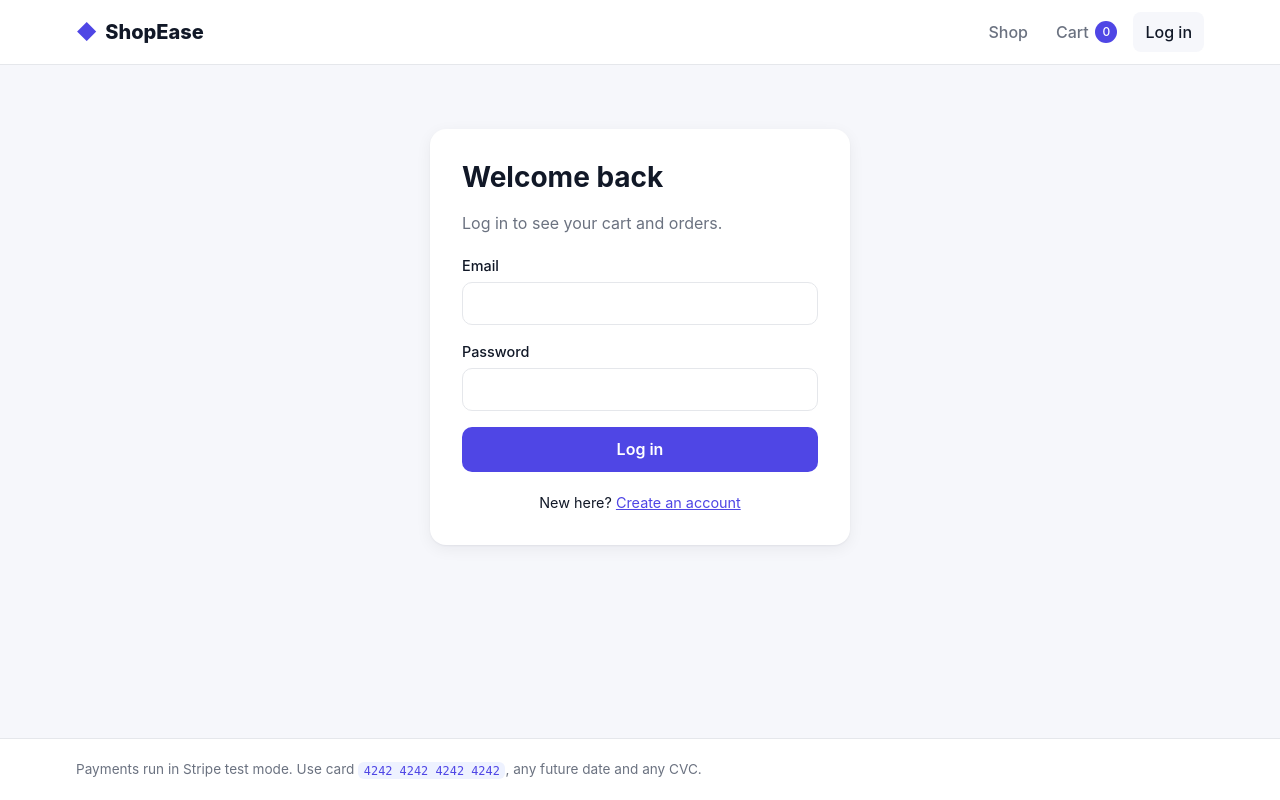
it: login › shows the server validation messages
Type "ada@example.com" into the field labelled "Email".
click(640, 303); type("ada@example.com")  # box [462,282,818,325]
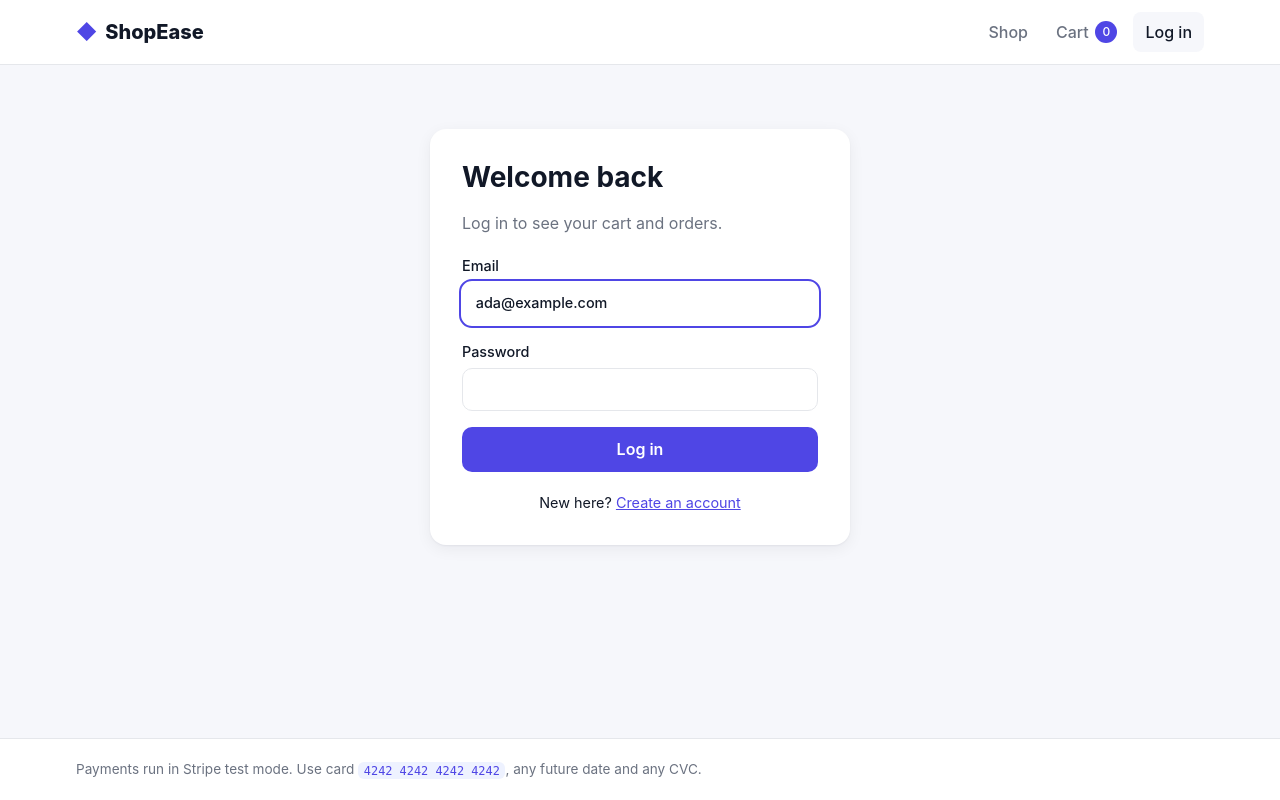
Type "wrong-password" into the password field labelled "Password".
click(640, 389); type("wrong-password")  # box [462,368,818,411]
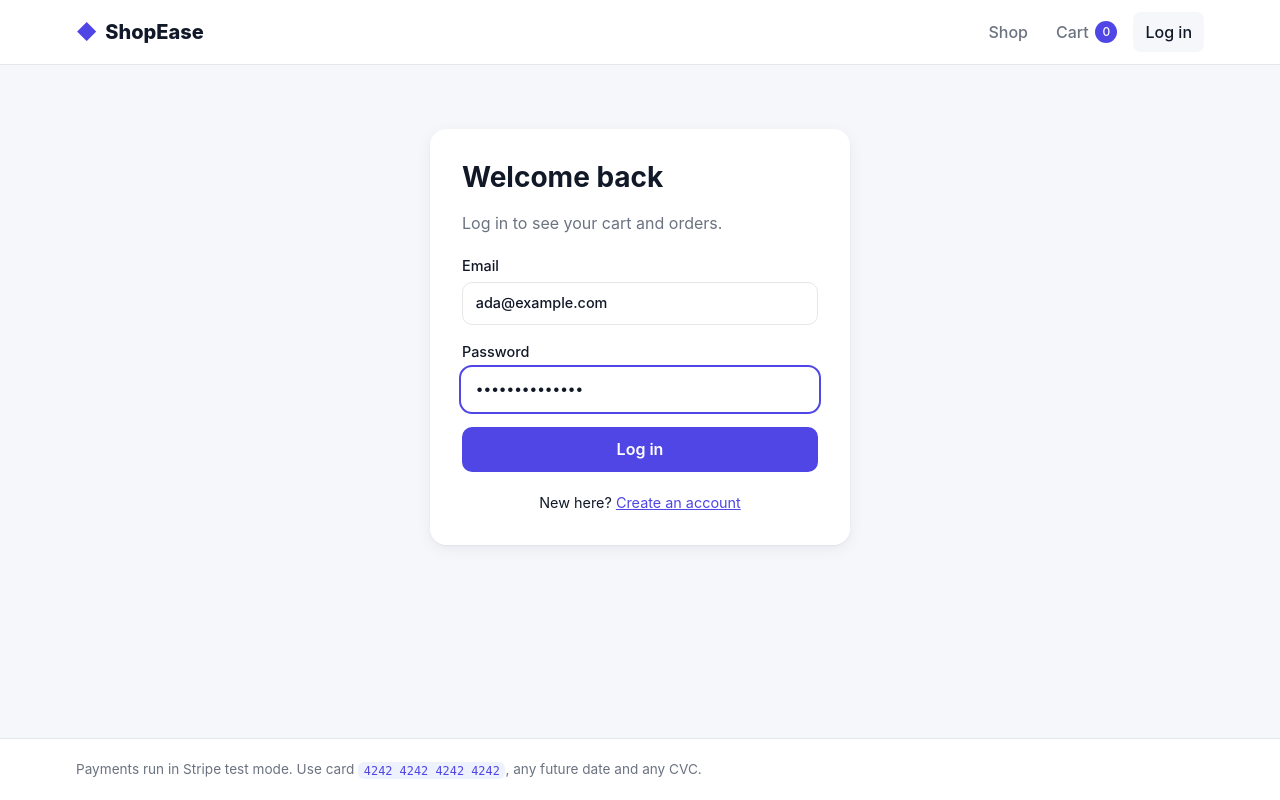
Click the button "Log in".
click(640, 449)  # box [462,426,818,472]
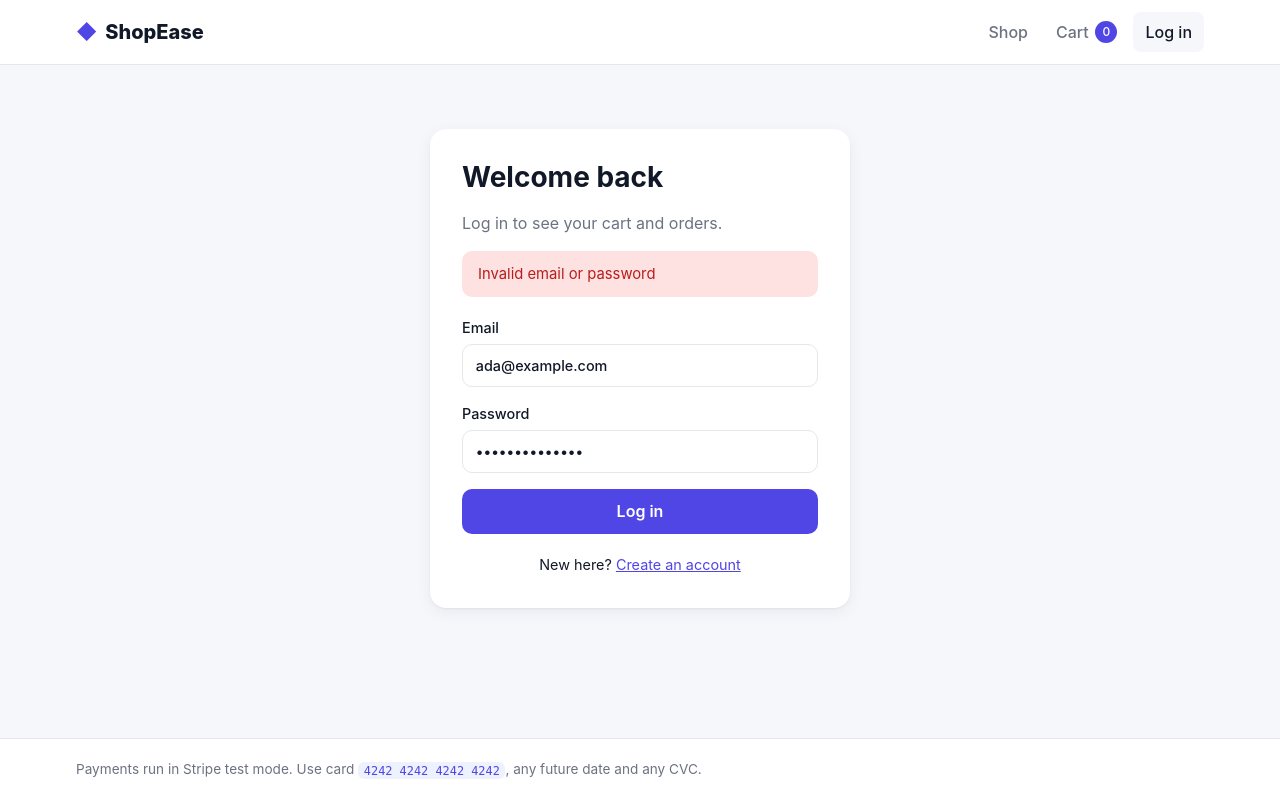
Result: the message reads "Invalid email or password" at [478,265,656,283]
